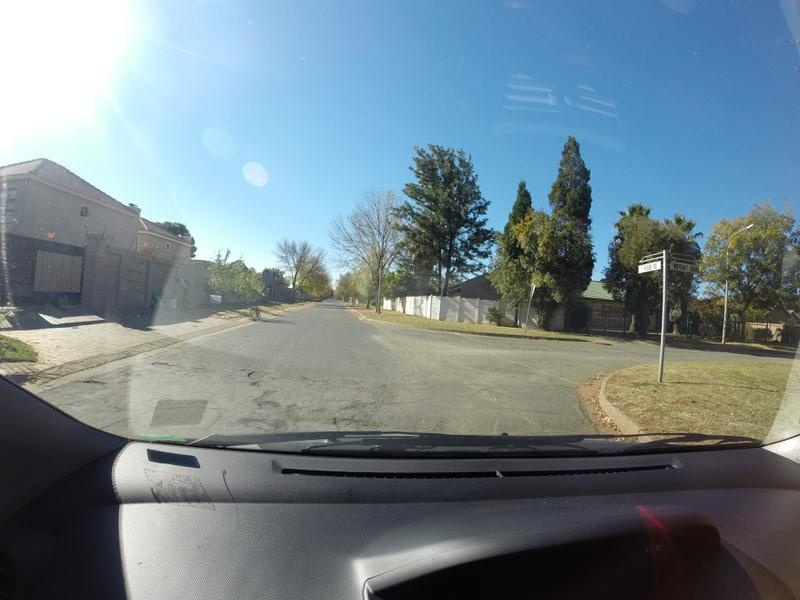pothole: (250, 395, 279, 409), (326, 417, 361, 427), (146, 360, 177, 368), (245, 371, 264, 379), (80, 377, 108, 382)
